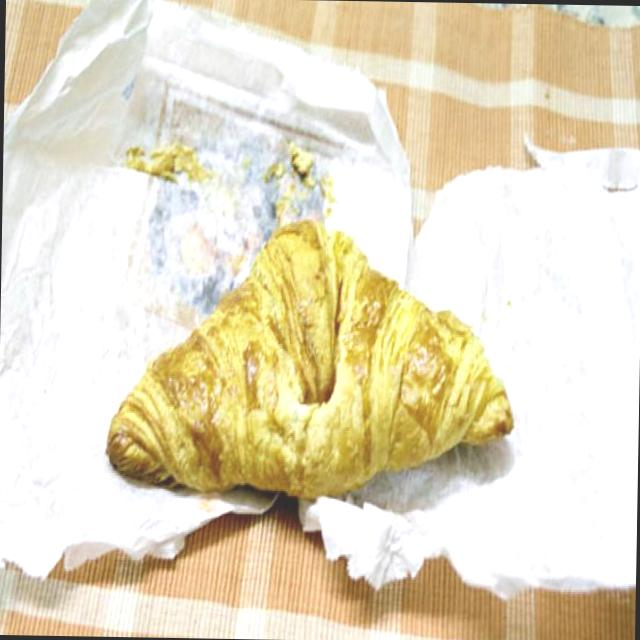Croissant: (88, 204, 525, 502)
